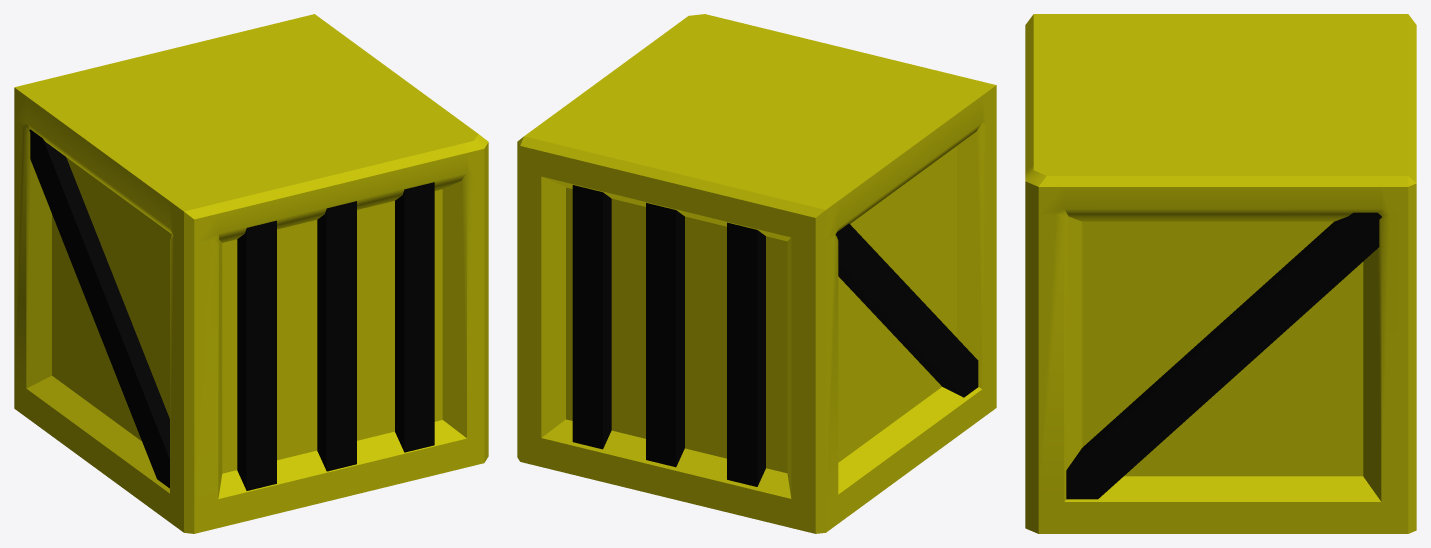
3 views of the same model, side by side, from view 1: azimuth 30°, elevation 25°; view 2: azimuth 150°, elevation 25°; view 3: azimuth 270°, elevation 25° (orthographic). The views are drawn at different scales.
Parts seen in each view (by area): view 1: Box; view 2: Box; view 3: Box.
Boxes of the visible parts, x1=… form: Box: x1=14, y1=14, x2=488, y2=533; Box: x1=517, y1=14, x2=996, y2=533; Box: x1=1025, y1=14, x2=1416, y2=533.
Bounding box in the file's own units: 4.16 × 4.16 × 4.16.
